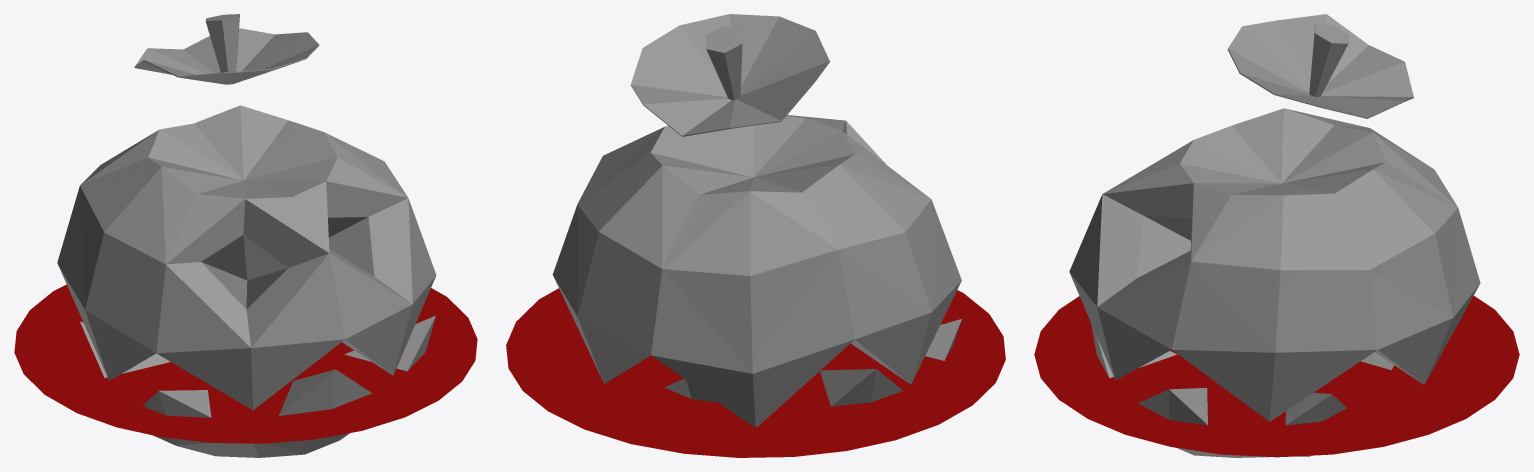
The model's file is pumpkin_rig_jump.FBX.
The picture shows the model from 3 angles, left to right: view 1: azimuth 30°, elevation 25°; view 2: azimuth 150°, elevation 25°; view 3: azimuth 270°, elevation 25°; orthographic projection. The views are drawn at different scales.
Visible parts, largest first — view 1: BouncyBone_001, Circle001, BouncyBone_002, BouncyBone_004; view 2: BouncyBone_001, Circle001, BouncyBone_004, BouncyBone_002; view 3: BouncyBone_001, Circle001, BouncyBone_004, BouncyBone_002.
Part boxes in pixels (bbox=[...]): BouncyBone_001: bbox=[57, 105, 436, 409]; Circle001: bbox=[14, 284, 477, 443]; BouncyBone_002: bbox=[80, 315, 435, 457]; BouncyBone_004: bbox=[134, 14, 319, 84]; BouncyBone_001: bbox=[552, 115, 961, 426]; Circle001: bbox=[506, 288, 1005, 457]; BouncyBone_004: bbox=[630, 14, 829, 136]; BouncyBone_002: bbox=[664, 319, 961, 406]; BouncyBone_001: bbox=[1069, 108, 1480, 421]; Circle001: bbox=[1034, 296, 1519, 457]; BouncyBone_004: bbox=[1227, 14, 1413, 118]; BouncyBone_002: bbox=[1091, 324, 1394, 457].
Bounding box in the file's own units: 622 × 622 × 564.
